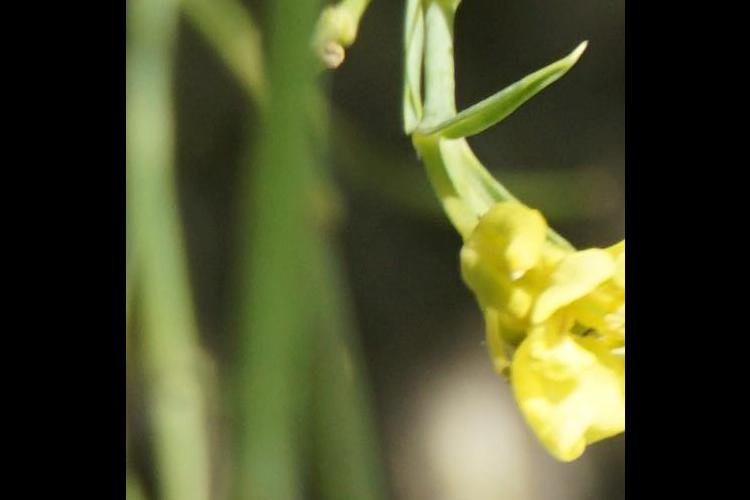pod: (306, 1, 403, 81)
yellow: (456, 203, 625, 465)
